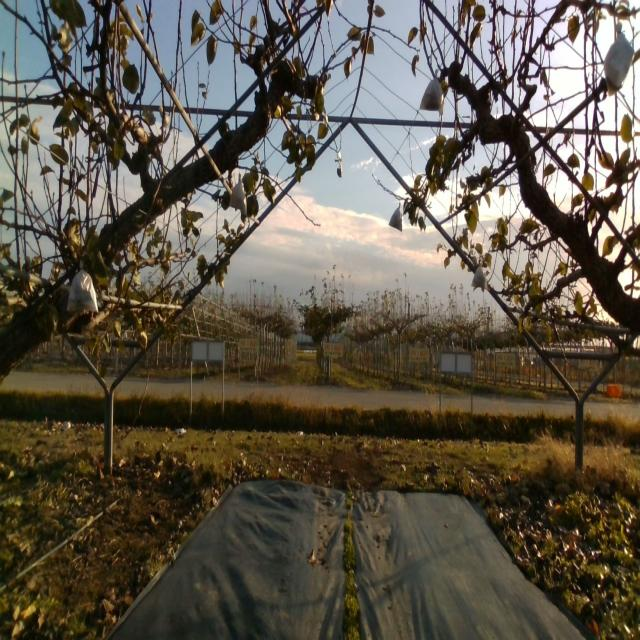pearbags: (603, 23, 634, 97), (66, 259, 100, 314), (420, 76, 445, 110), (228, 176, 249, 216), (471, 259, 488, 290), (389, 203, 403, 232)
